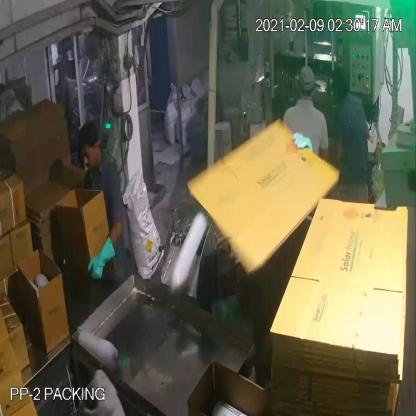glove: (86, 226, 116, 288)
